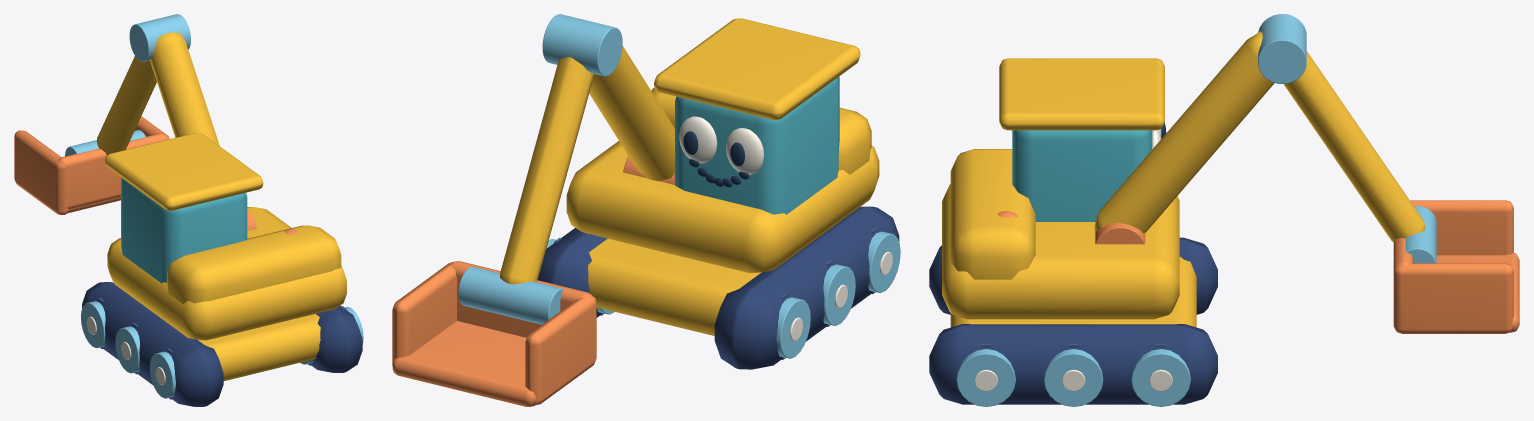
Rendered from excavator.glb.
The picture shows the model from 3 angles, left to right: view 1: azimuth 30°, elevation 25°; view 2: azimuth 150°, elevation 25°; view 3: azimuth 270°, elevation 25°; orthographic projection. The views are drawn at different scales.
Visible parts, largest first — view 1: Upper body, Chassis body, Scoop, Boom arm, Stick arm, Left wheel 2, Left wheel 1, Left wheel 0; view 2: Upper body, Chassis body, Scoop, Boom arm, Stick arm, Left wheel 0, Left wheel 2, Left wheel 1; view 3: Upper body, Chassis body, Scoop, Boom arm, Stick arm, Right wheel 0, Right wheel 2, Right wheel 1.
Part boxes in pixels (bbox=[...]): Upper body: bbox=[105, 132, 346, 340]; Chassis body: bbox=[82, 282, 362, 406]; Scoop: bbox=[14, 116, 169, 214]; Boom arm: bbox=[129, 14, 256, 230]; Stick arm: bbox=[97, 56, 156, 154]; Left wheel 2: bbox=[149, 348, 175, 399]; Left wheel 1: bbox=[115, 323, 139, 374]; Left wheel 0: bbox=[81, 298, 105, 349]; Upper body: bbox=[566, 18, 879, 272]; Chassis body: bbox=[538, 206, 899, 369]; Scoop: bbox=[392, 261, 596, 406]; Boom arm: bbox=[542, 14, 674, 184]; Stick arm: bbox=[500, 57, 594, 284]; Left wheel 0: bbox=[776, 293, 810, 359]; Left wheel 2: bbox=[868, 227, 900, 294]; Left wheel 1: bbox=[823, 260, 855, 326]; Upper body: bbox=[942, 58, 1179, 319]; Chassis body: bbox=[929, 237, 1217, 404]; Scoop: bbox=[1393, 200, 1519, 333]; Boom arm: bbox=[1094, 14, 1306, 244]; Stick arm: bbox=[1283, 51, 1425, 242]; Right wheel 0: bbox=[1131, 344, 1190, 406]; Right wheel 2: bbox=[956, 344, 1015, 406]; Right wheel 1: bbox=[1044, 344, 1103, 406].
Size of the model in its own units: 3.34 by 4.49 by 6.95.
